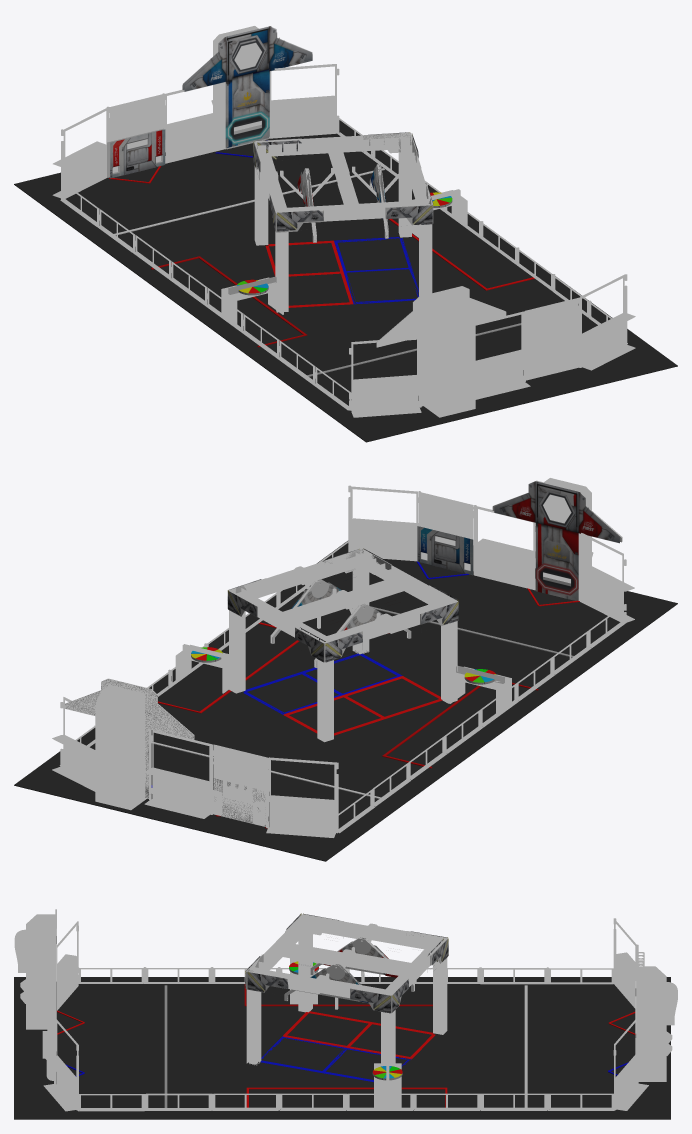
3 views of the same model, one above another, from view 1: azimuth 30°, elevation 25°; view 2: azimuth 150°, elevation 25°; view 3: azimuth 270°, elevation 25° (orthographic). The views are drawn at different scales.
Visible parts, largest first — view 1: Solid1, New Plane Cloned (×5), MeshFeature1:3, MeshFeature1:2, MeshFeature1:6, MeshFeature1:22, MeshFeature1:16, MeshFeature1:36, MeshFeature1:37, MeshFeature1_1, MeshFeature1:23, MeshFeature1 (+7 smaller); view 2: Solid1, MeshFeature1:19, New Plane (×2), MeshFeature1:18, MeshFeature1:36, MeshFeature1_1:1, MeshFeature1:23, MeshFeature1_1, MeshFeature1:7, MeshFeature1:16, MeshFeature1, MeshFeature1:37 (+9 smaller); view 3: Solid1, MeshFeature1:19, MeshFeature1:3, MeshFeature1:37, MeshFeature1:36, MeshFeature1_1, MeshFeature1_1:1, MeshFeature1:7, MeshFeature1:22, MeshFeature1:23, MeshFeature1:6, MeshFeature1:5 (+24 smaller).
Boxes of the visible parts, <box> form: Solid1: <box>14,120,677,442</box>; New Plane Cloned (×5): <box>110,26,432,231</box>; MeshFeature1:3: <box>376,286,506,417</box>; MeshFeature1:2: <box>523,297,583,380</box>; MeshFeature1:6: <box>349,337,421,417</box>; MeshFeature1:22: <box>269,64,339,138</box>; MeshFeature1:16: <box>162,82,225,163</box>; MeshFeature1:36: <box>254,137,341,245</box>; MeshFeature1:37: <box>346,169,432,296</box>; MeshFeature1_1: <box>333,133,421,237</box>; MeshFeature1:23: <box>52,107,109,199</box>; MeshFeature1: <box>475,311,530,399</box>; Solid1: <box>14,541,677,861</box>; MeshFeature1:19: <box>64,679,193,810</box>; New Plane (×2): <box>417,481,619,600</box>; MeshFeature1:18: <box>209,744,268,828</box>; MeshFeature1:36: <box>276,597,391,742</box>; MeshFeature1_1:1: <box>343,575,457,703</box>; MeshFeature1:23: <box>266,757,338,837</box>; MeshFeature1_1: <box>229,569,336,693</box>; MeshFeature1:7: <box>348,485,419,561</box>; MeshFeature1:16: <box>144,730,213,818</box>; MeshFeature1: <box>474,505,535,590</box>; MeshFeature1:37: <box>301,549,409,654</box>; Solid1: <box>14,977,670,1119</box>; MeshFeature1:19: <box>636,961,677,1081</box>; MeshFeature1:3: <box>14,909,56,1029</box>; MeshFeature1:37: <box>246,943,344,1065</box>; MeshFeature1:36: <box>353,926,447,1034</box>; MeshFeature1_1: <box>319,956,419,1063</box>; MeshFeature1_1:1: <box>274,914,374,1012</box>; MeshFeature1:7: <box>43,1019,78,1111</box>; MeshFeature1:22: <box>613,1018,648,1110</box>; MeshFeature1:23: <box>613,918,638,1008</box>; MeshFeature1:6: <box>57,921,78,1010</box>; MeshFeature1:5: <box>374,1063,401,1109</box>.
Bounding box in the file's own units: 460 × 164 × 910.
30 materials, 8 textured.
